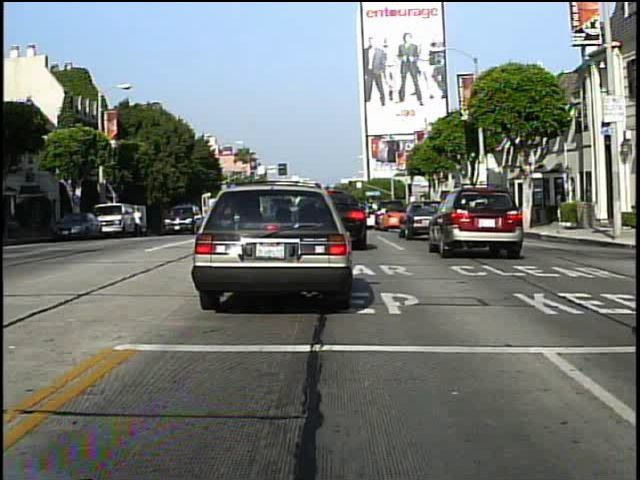person: (132, 204, 145, 239)
